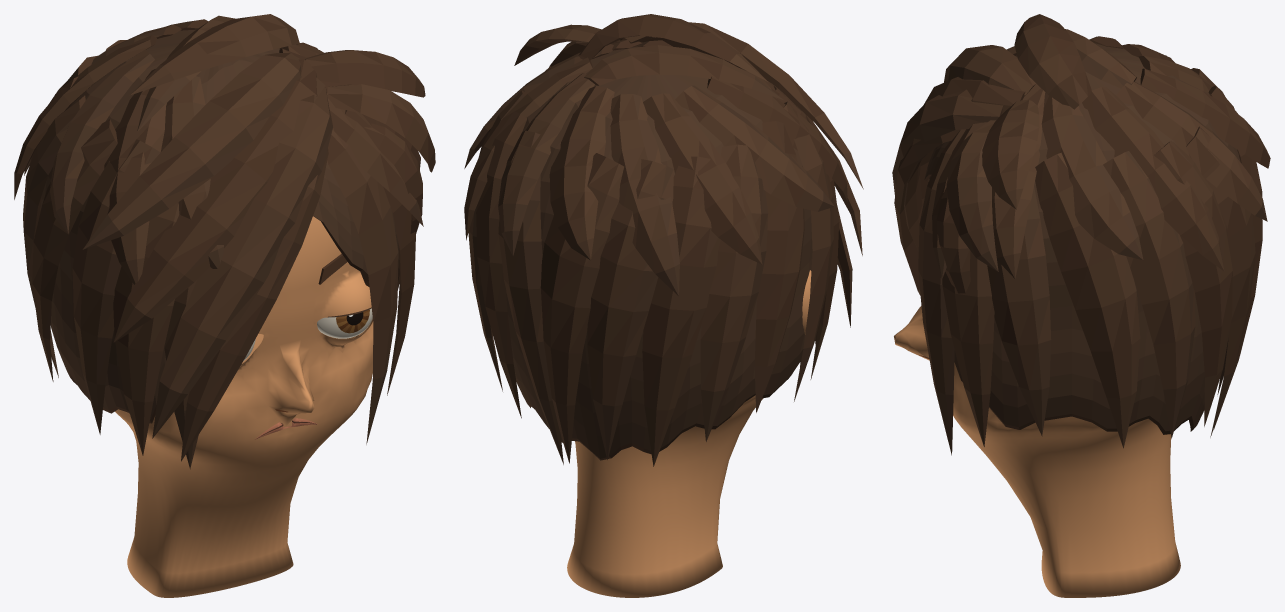
The model's file is cabeca-feminina-03.glb.
3 renders of one model, left to right at view 1: azimuth 30°, elevation 25°; view 2: azimuth 150°, elevation 25°; view 3: azimuth 270°, elevation 25°, orthographic. The views are drawn at different scales.
Parts seen in each view (by area): view 1: RCL_Corte_Feminino_01, RCL_Base_Feminina_03, RCL_nose_Pele, RCL_eye-R_Pele, RCL_eye-L_Pele, RCL_Globo_0.037; view 2: RCL_Corte_Feminino_01, RCL_Base_Feminina_03; view 3: RCL_Corte_Feminino_01, RCL_Base_Feminina_03, RCL_nose_Pele.
Part boxes in pixels (box(x1,y1,x2,y2)): RCL_Corte_Feminino_01: box(14, 14, 435, 469); RCL_Base_Feminina_03: box(115, 216, 373, 597); RCL_nose_Pele: box(267, 339, 314, 425); RCL_eye-R_Pele: box(302, 267, 372, 360); RCL_eye-L_Pele: box(235, 311, 279, 380); RCL_Globo_0.037: box(317, 308, 372, 338); RCL_Corte_Feminino_01: box(464, 14, 863, 466); RCL_Base_Feminina_03: box(567, 395, 762, 597); RCL_Corte_Feminino_01: box(892, 14, 1270, 455); RCL_Base_Feminina_03: box(953, 362, 1180, 597); RCL_nose_Pele: box(894, 306, 929, 360).
Size of the model in its own units: 0.222 by 0.3331 by 0.2118.
